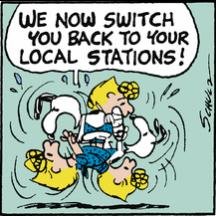snoopy: (33, 92, 169, 164)
